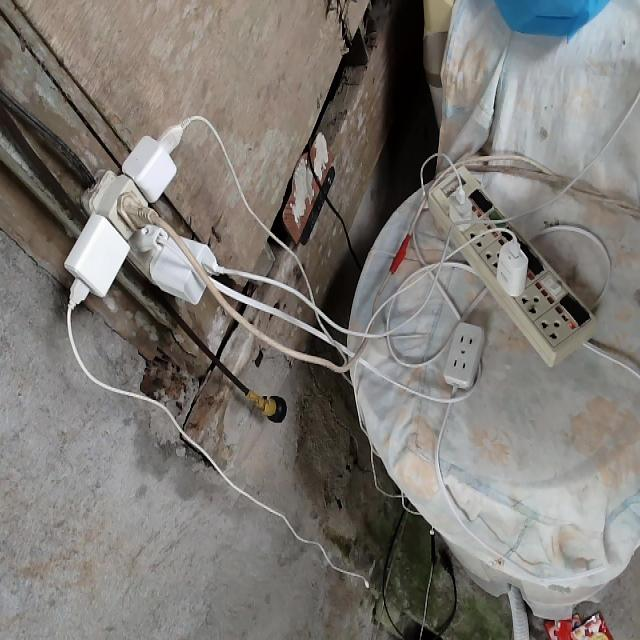-: (62, 116, 223, 304)
